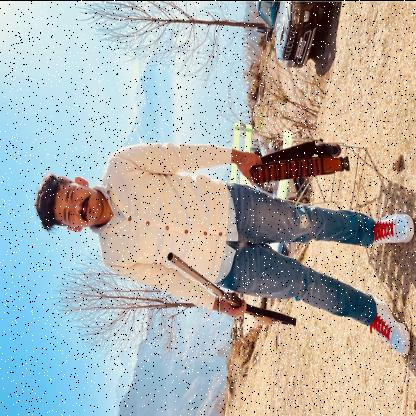rifle: (164, 248, 298, 329)
